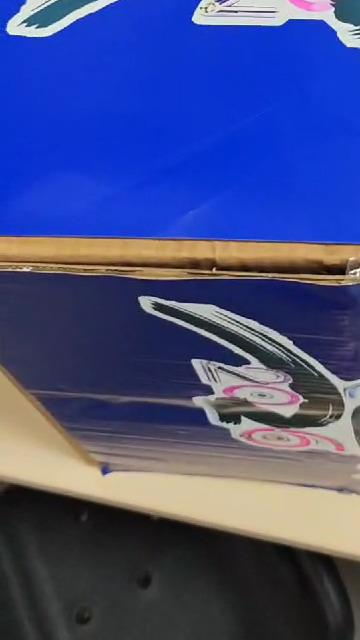B_R1: (140, 297, 360, 475), (6, 0, 360, 48)
